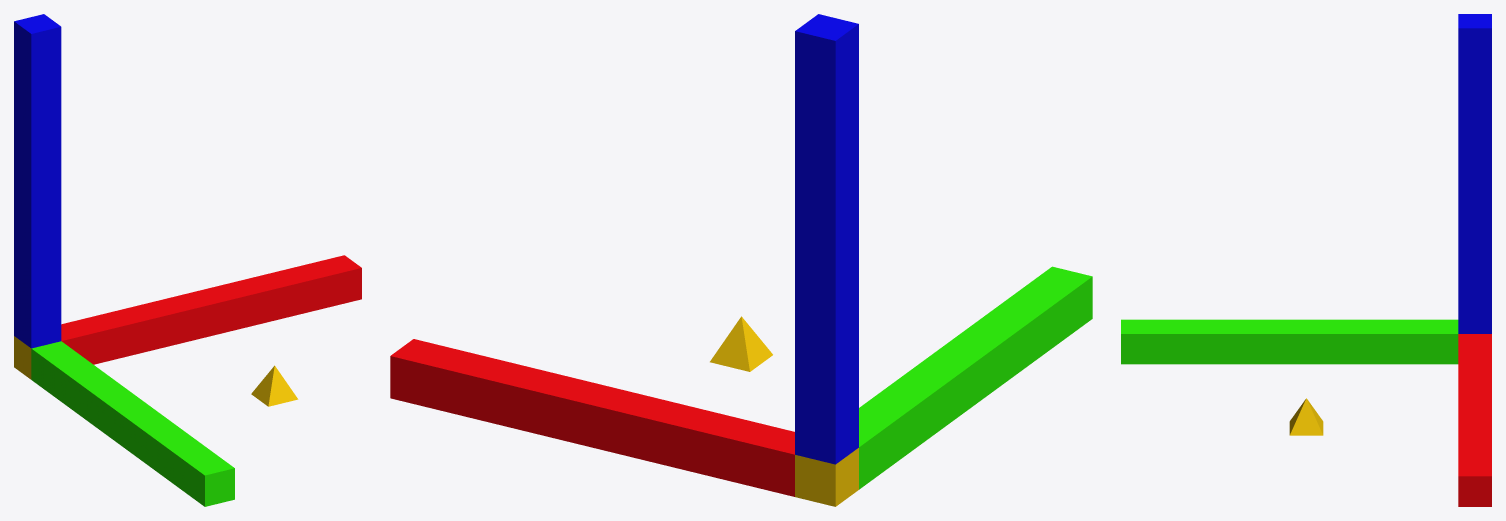
File: marker.glb
The picture shows the model from 3 angles, left to right: view 1: azimuth 30°, elevation 25°; view 2: azimuth 150°, elevation 25°; view 3: azimuth 270°, elevation 25°; orthographic projection. The views are drawn at different scales.
Visible parts, largest first — view 1: Cube; view 2: Cube; view 3: Cube.
Boxes of the visible parts, box(x1,y1,x2,y2) form: Cube: box(14, 14, 361, 506); Cube: box(390, 14, 1092, 506); Cube: box(1121, 14, 1491, 506).
Size of the model in its own units: 2.2 by 2.2 by 2.2.
1 material, 1 textured.
